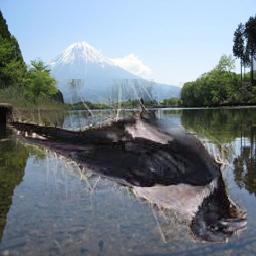Crow: (7, 79, 248, 243)
